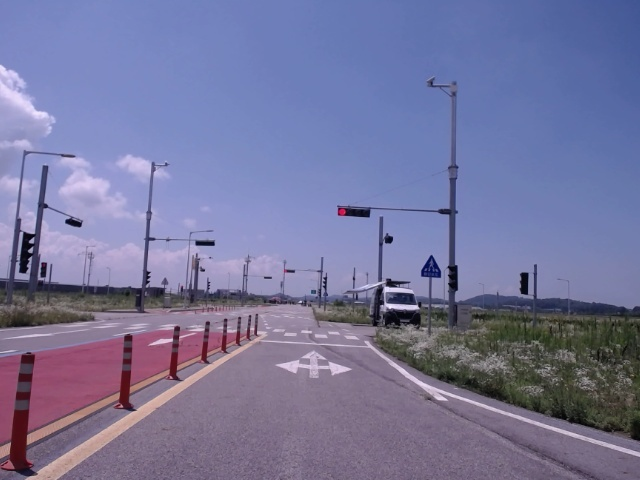red_4: (338, 207, 370, 217)
